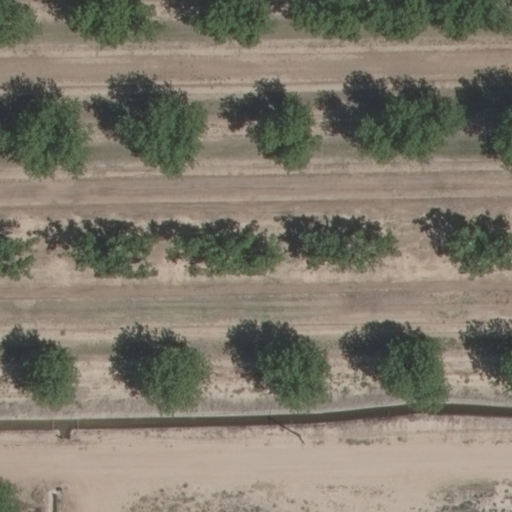DT: (288, 424, 309, 447)
